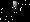person: (15, 3, 23, 15)
